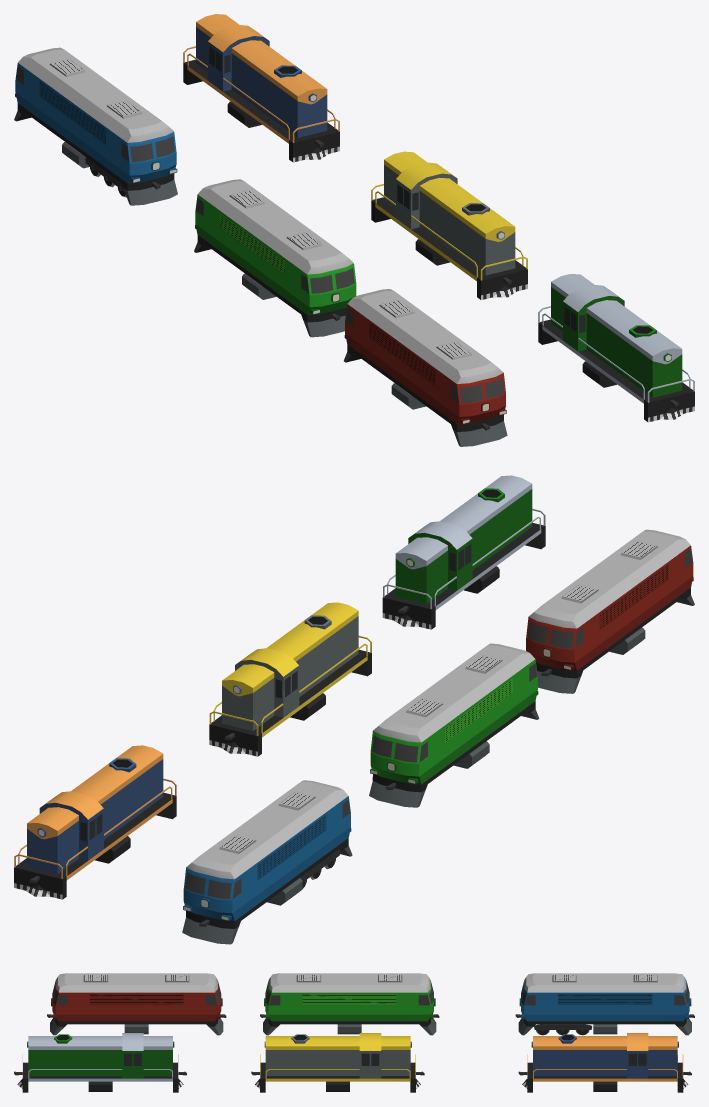
File: loco.FBX
The picture shows the model from 3 angles, top to bottom: view 1: azimuth 30°, elevation 25°; view 2: azimuth 150°, elevation 25°; view 3: azimuth 270°, elevation 25°; orthographic projection. The views are drawn at different scales.
Visible parts, largest first — view 1: diesel_fast_red, diesel_fast_blue, diesel_fast_green, diesel_green, diesel_navy, diesel_grey; view 2: diesel_fast_green, diesel_fast_blue, diesel_fast_red, diesel_green, diesel_navy, diesel_grey; view 3: diesel_fast_blue, diesel_fast_green, diesel_fast_red, diesel_navy, diesel_green, diesel_grey, bogie_tripple.
Boxes of the visible parts, x1=… form: diesel_fast_red: x1=344, y1=289, x2=507, y2=446; diesel_fast_blue: x1=14, y1=47, x2=177, y2=205; diesel_fast_green: x1=194, y1=179, x2=356, y2=337; diesel_green: x1=538, y1=274, x2=694, y2=422; diesel_navy: x1=183, y1=14, x2=339, y2=162; diesel_grey: x1=371, y1=151, x2=527, y2=299; diesel_fast_green: x1=369, y1=643, x2=539, y2=807; diesel_fast_blue: x1=182, y1=780, x2=352, y2=944; diesel_fast_red: x1=526, y1=529, x2=694, y2=693; diesel_green: x1=382, y1=475, x2=545, y2=629; diesel_navy: x1=14, y1=745, x2=176, y2=899; diesel_grey: x1=209, y1=602, x2=371, y2=756; diesel_fast_blue: x1=515, y1=973, x2=694, y2=1035; diesel_fast_green: x1=260, y1=973, x2=439, y2=1035; diesel_fast_red: x1=47, y1=973, x2=226, y2=1035; diesel_navy: x1=518, y1=1033, x2=691, y2=1092; diesel_green: x1=14, y1=1033, x2=186, y2=1092; diesel_grey: x1=251, y1=1033, x2=424, y2=1092; bogie_tripple: x1=534, y1=1024, x2=592, y2=1035.
Bounding box in the file's own units: 14.5 × 55.57 × 4.69.
1 material, 1 textured.
